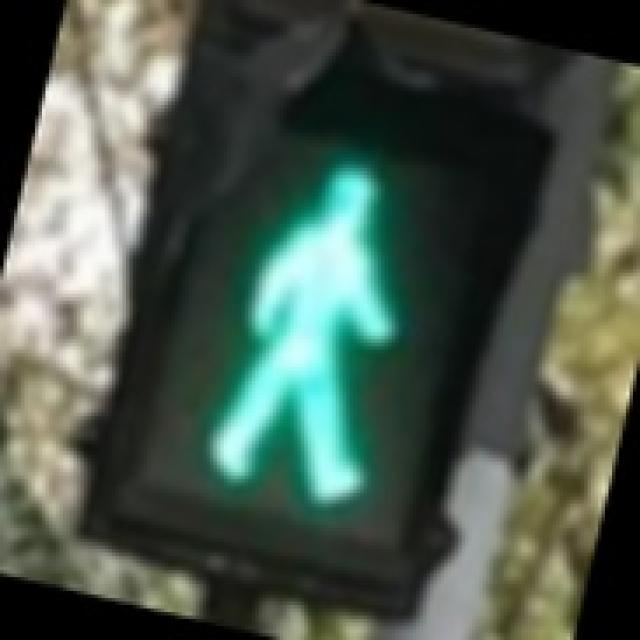geen-crossing: (126, 77, 504, 560)
